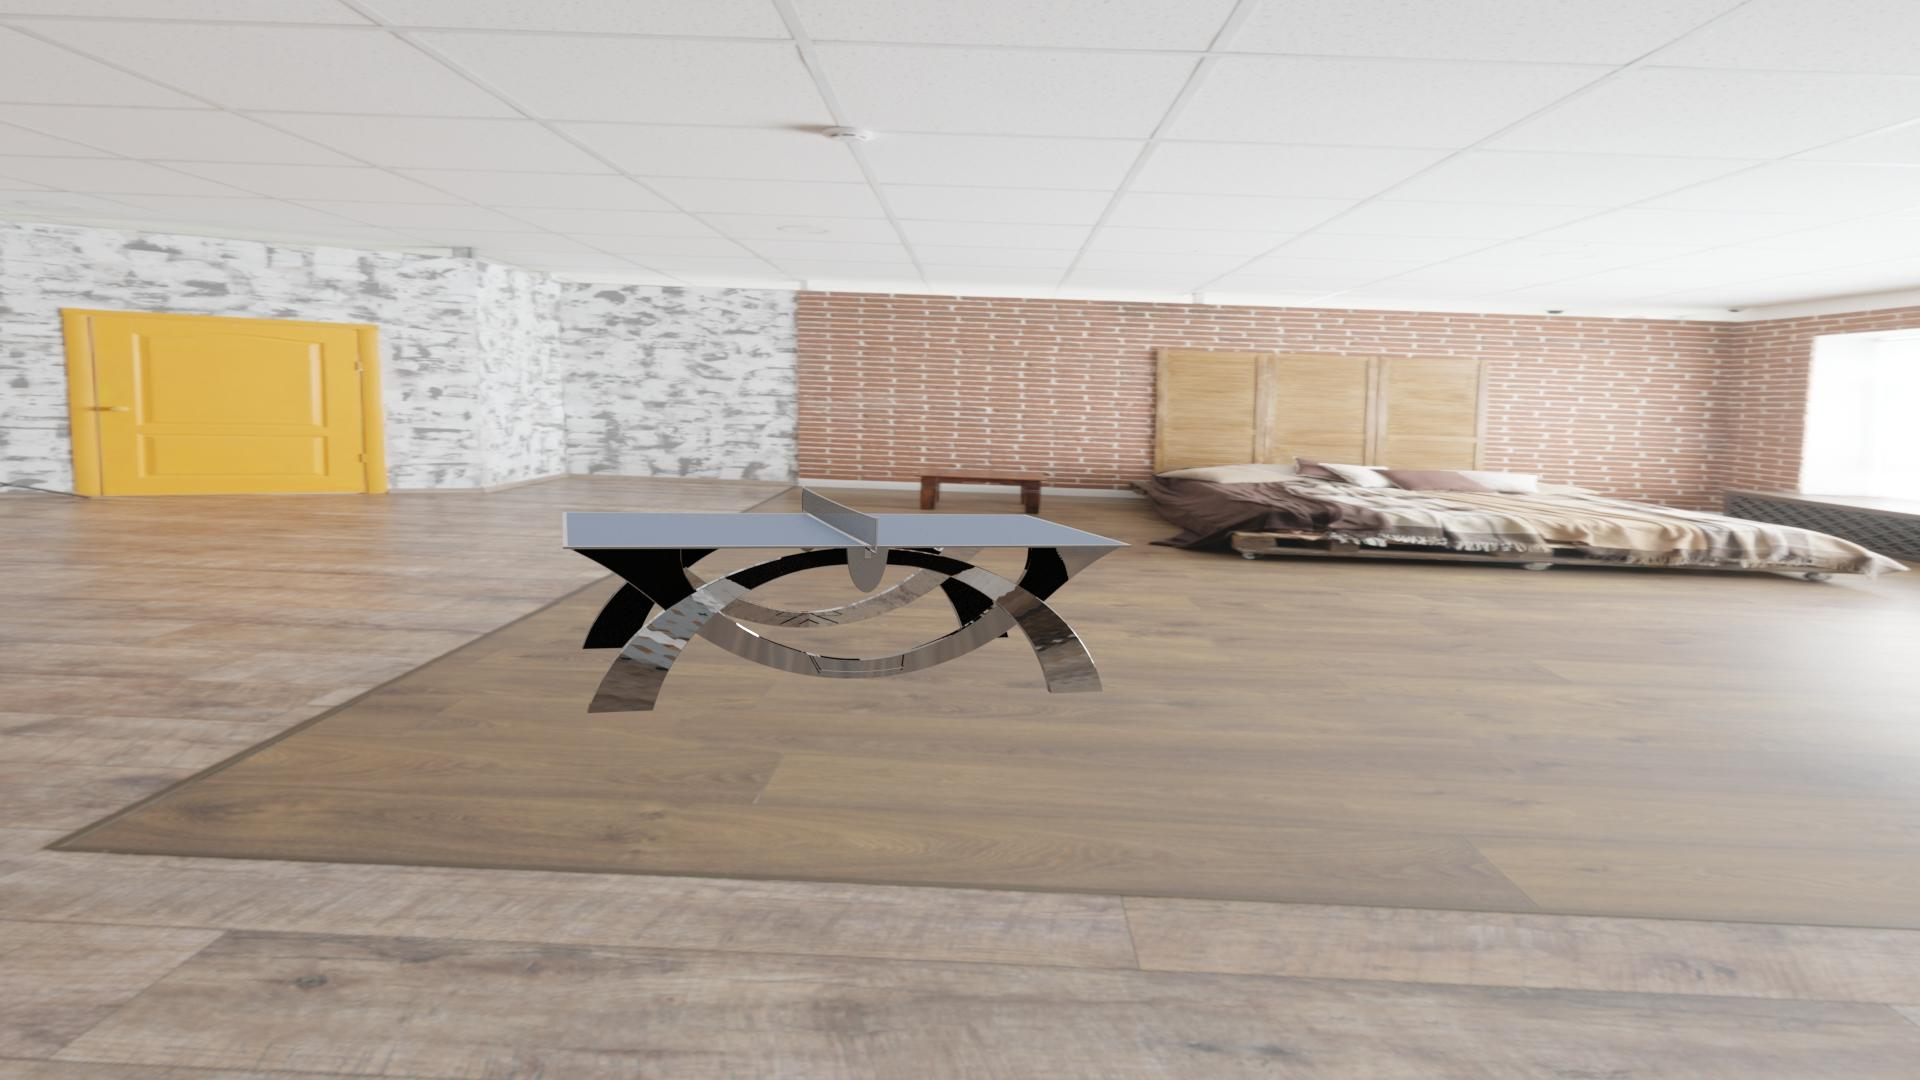table: (566, 513, 1127, 546)
